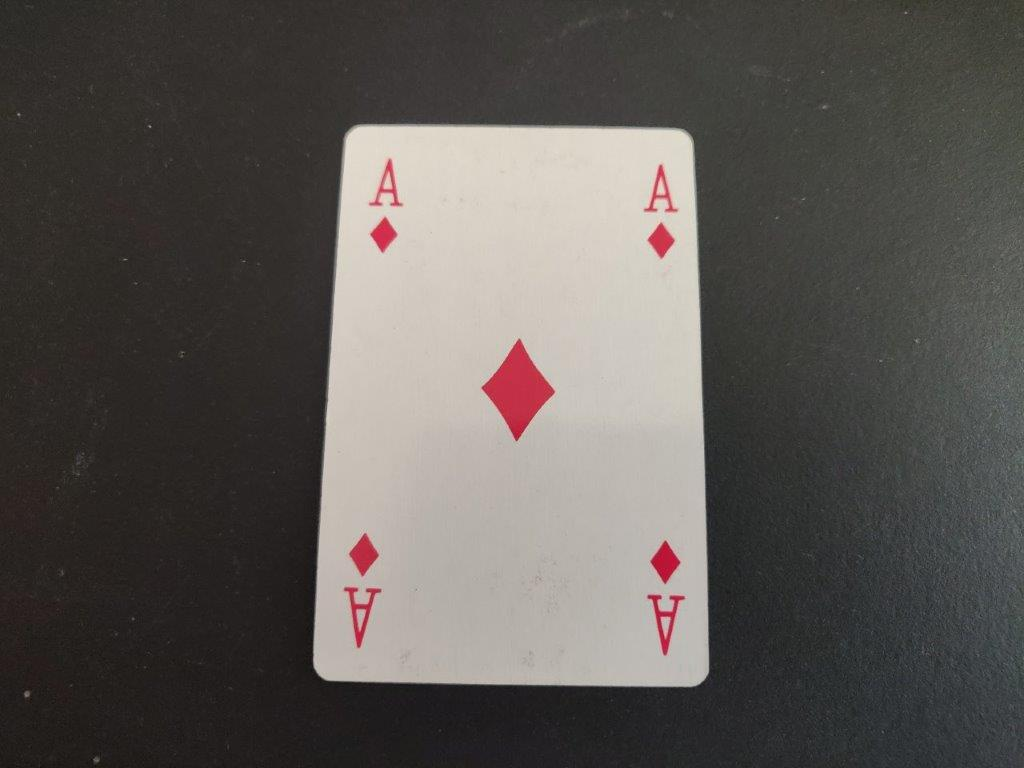AD: (364, 155, 409, 259), (638, 159, 682, 262)
